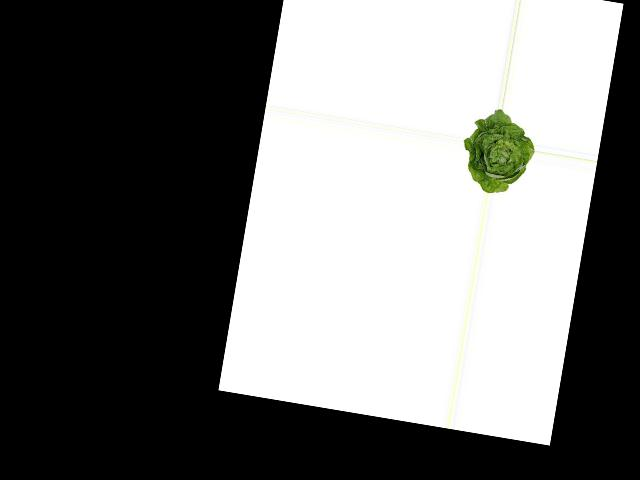lettuce: (456, 106, 539, 199)
